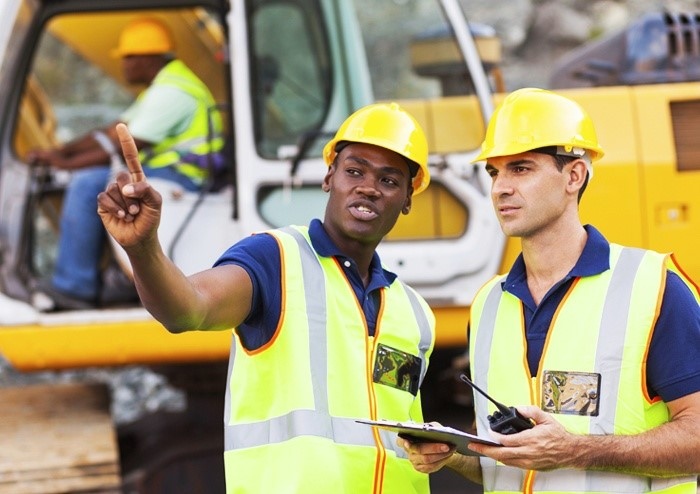face_no_mask: (319, 127, 422, 248), (483, 127, 592, 240)
